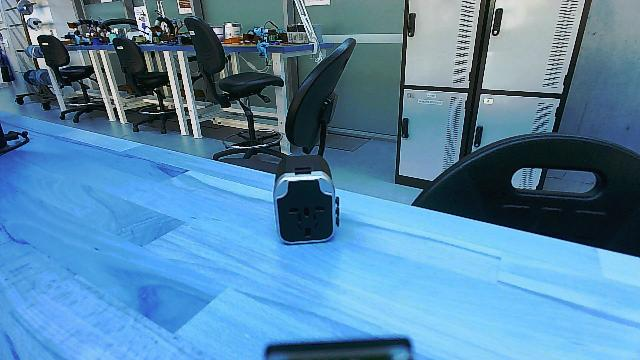adapter: (270, 154, 344, 248)
